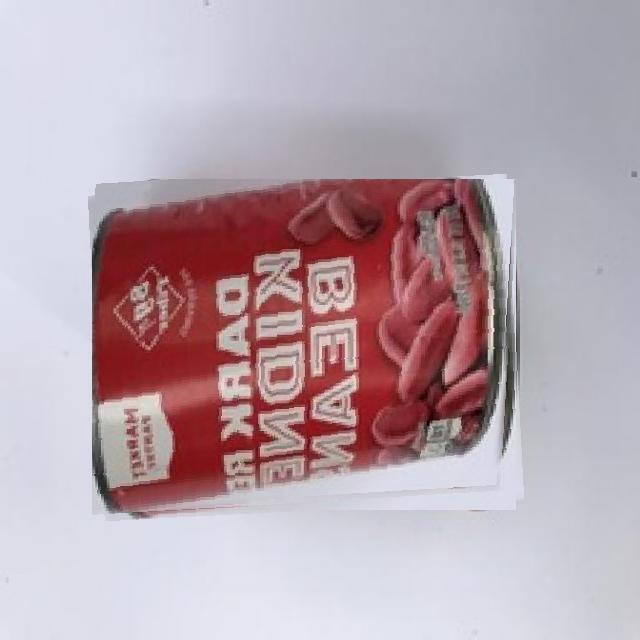recyclable: (92, 179, 520, 516)
